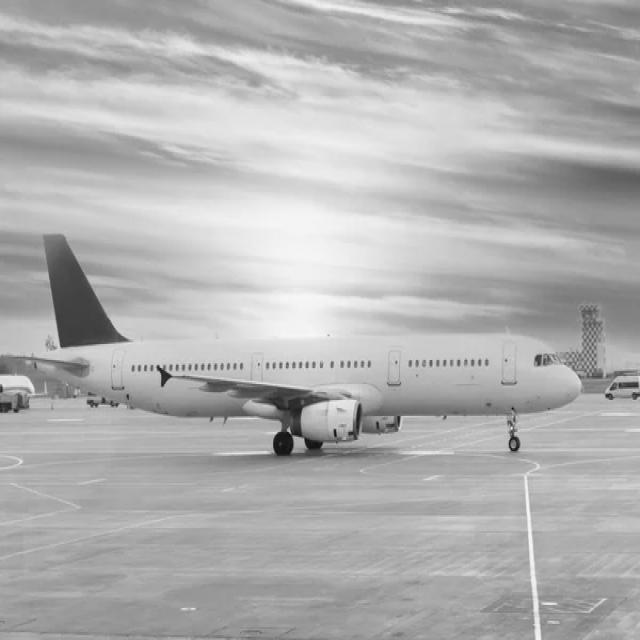Aircraft: (29, 232, 585, 458)
